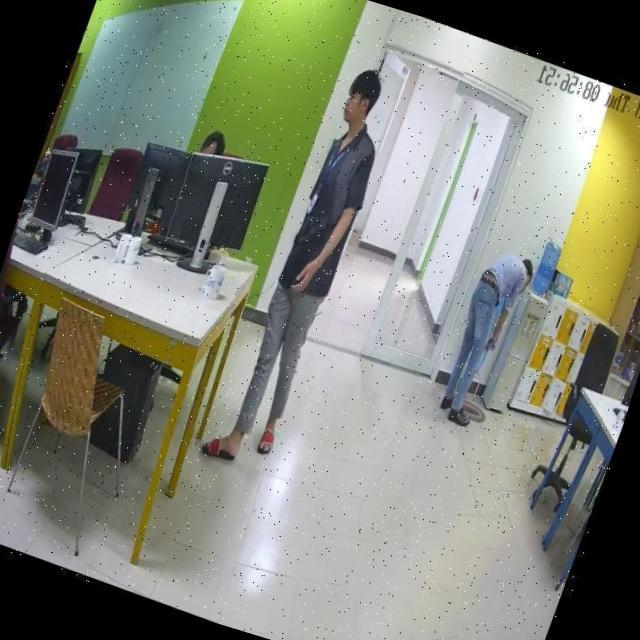person: (202, 50, 408, 479), (428, 242, 538, 435)
